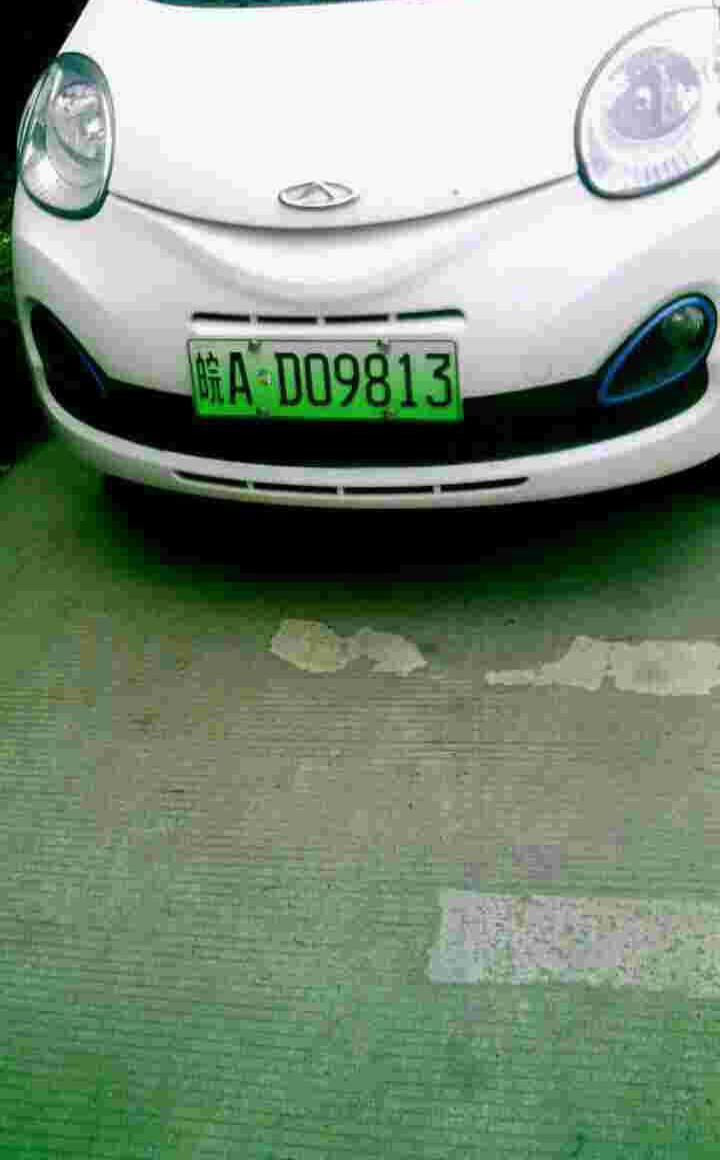car: (188, 334, 454, 414)
